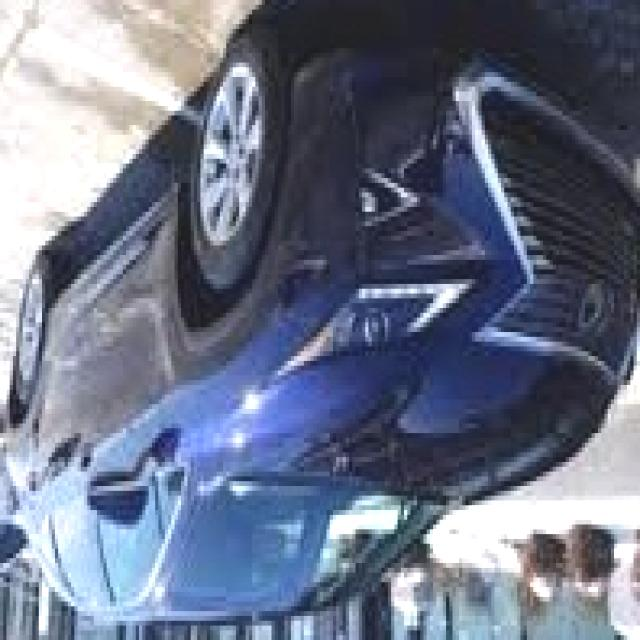blue: (0, 0, 635, 635)
